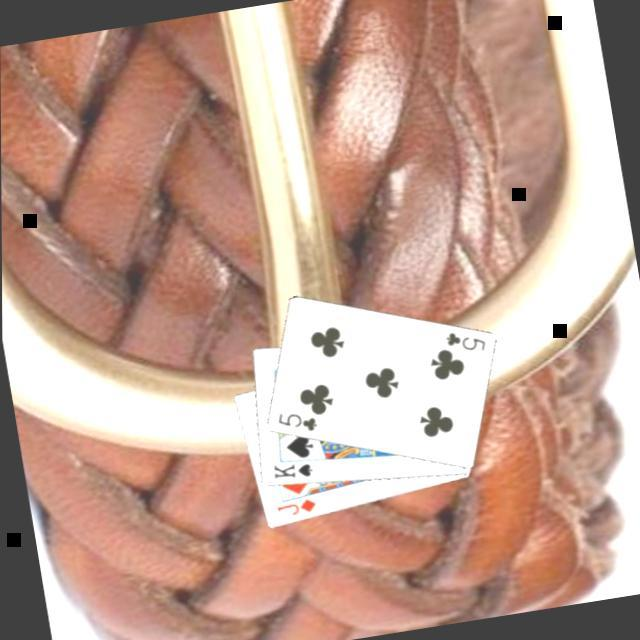5C: (273, 403, 321, 439), (441, 323, 489, 359)
JD: (272, 493, 321, 520)
KS: (268, 455, 317, 485)
